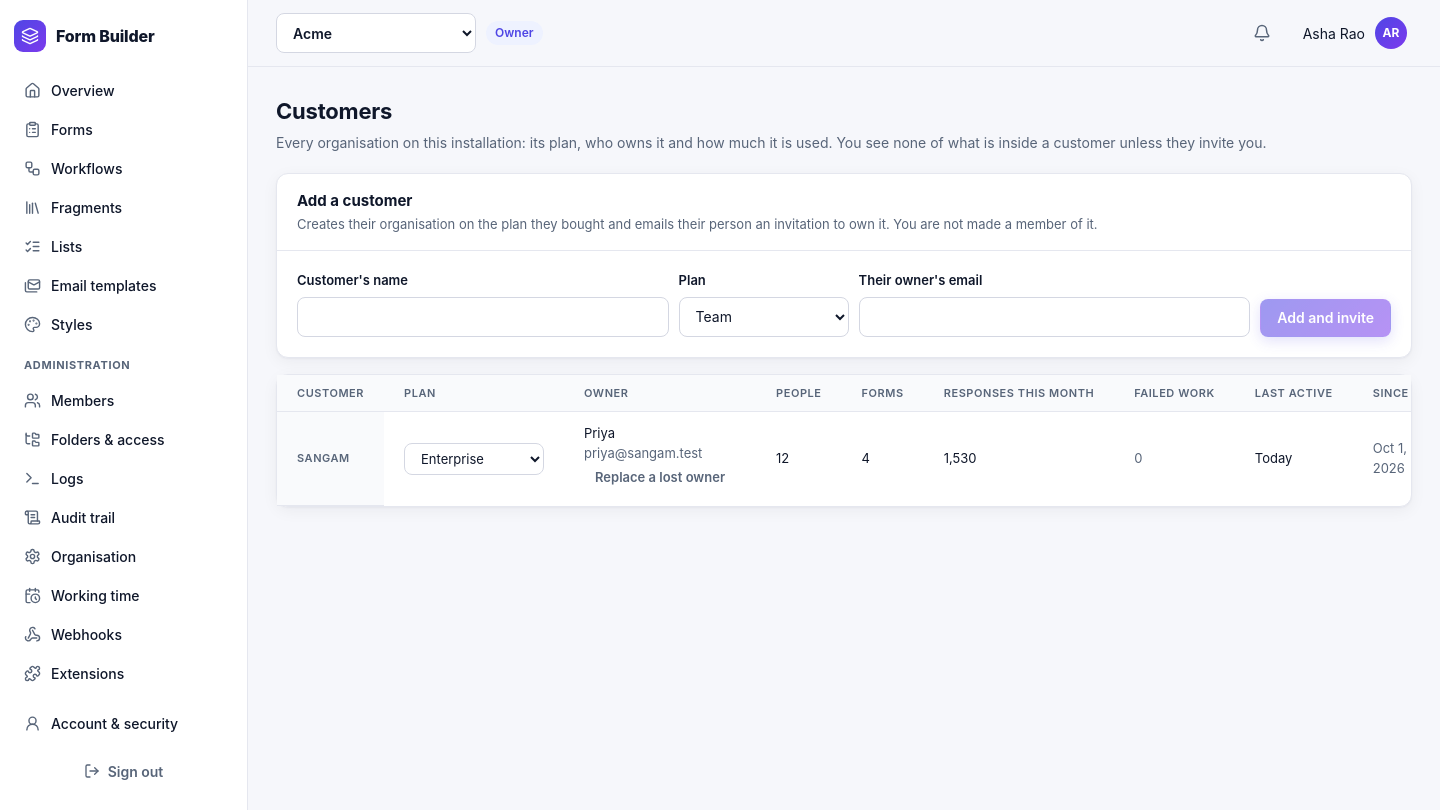
Test: studio › an operator has a Customers page: every customer with plan, owner and use; one is added and a plan changed there
This screenshot has width=1440, height=810.
Check: the row "Sangam" shows "Priya", box top-left (584, 425), bottom-right (615, 441)
Check: the row "Sangam" shows "1,530", box top-left (944, 450), bottom-right (976, 466)
Type "Newco" into the field labelled "Customer's name" at coordinates (483, 316), box top-left (297, 296), bottom-right (669, 336)
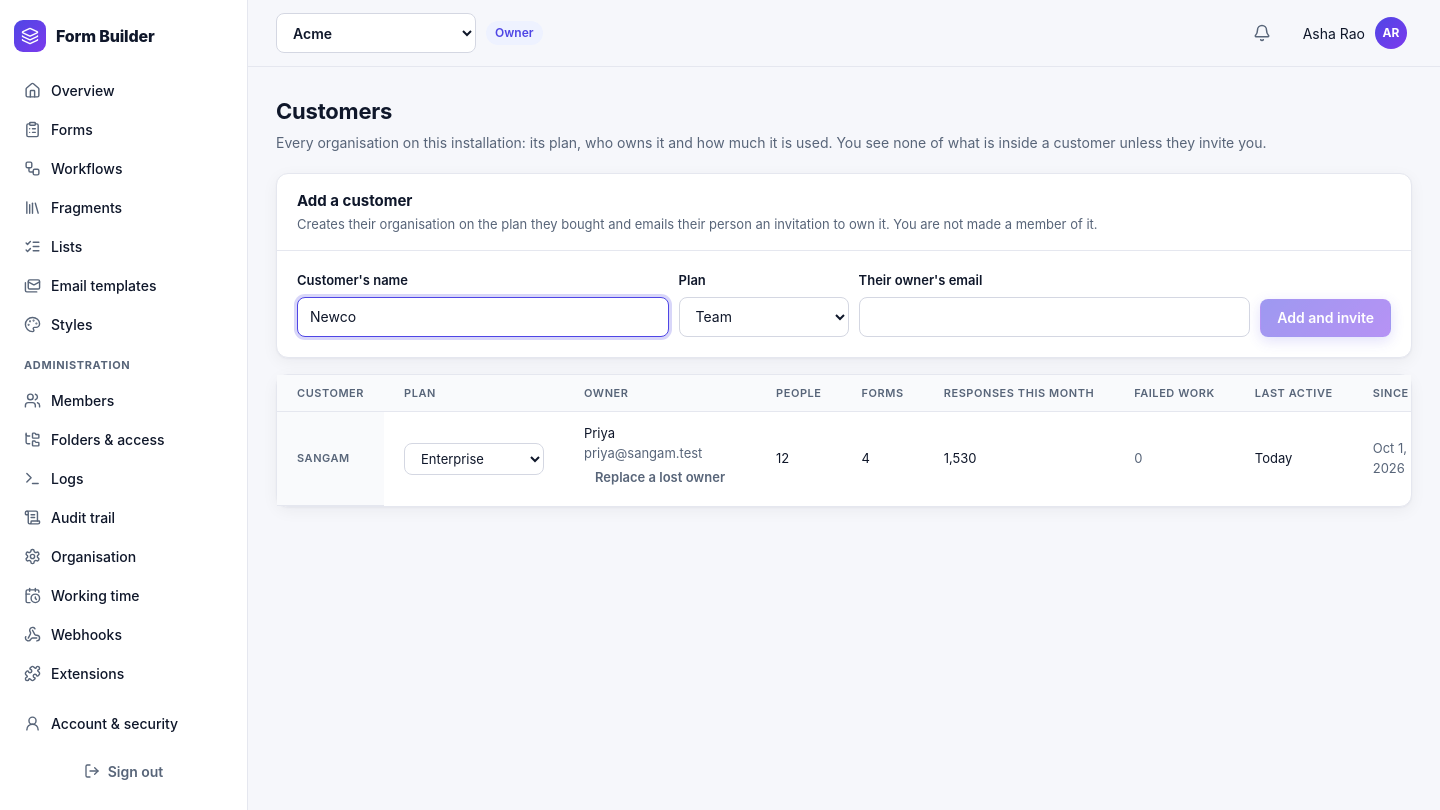
Type "boss@newco.test" into the field labelled "Their owner's email" at coordinates (1054, 316), box top-left (859, 296), bottom-right (1250, 336)
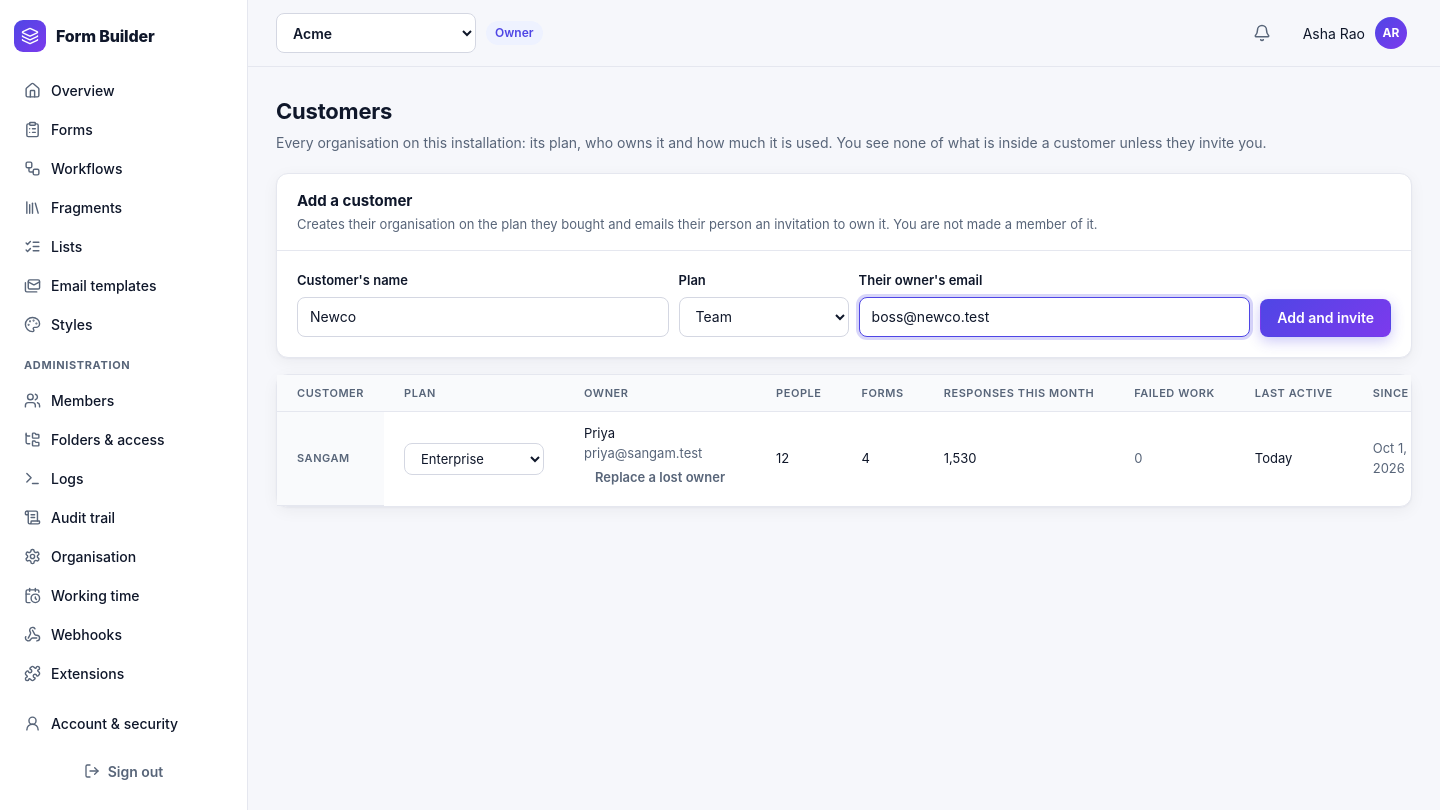
Click the button "Add and invite" at coordinates (1326, 318), box top-left (1260, 298), bottom-right (1391, 336)
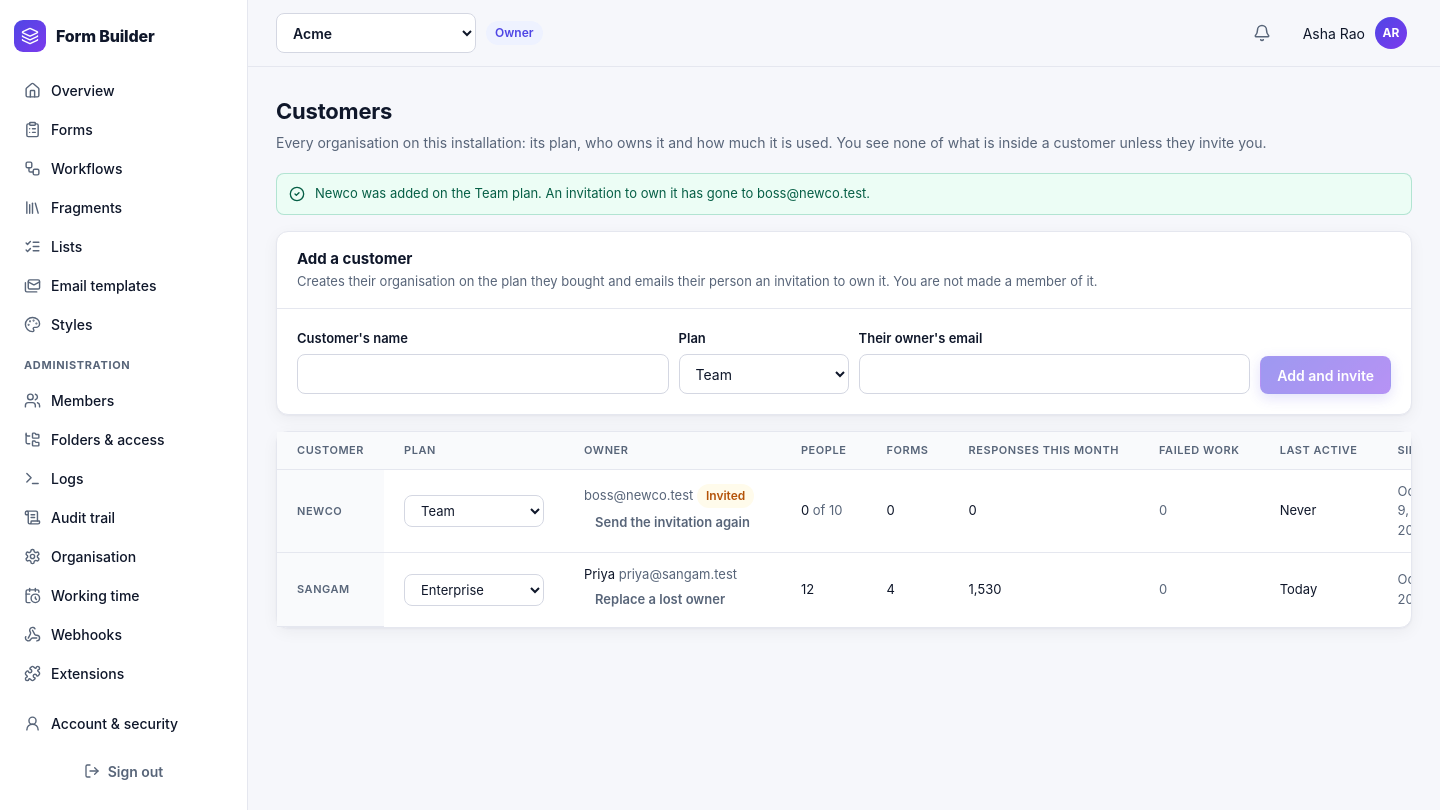
Check: the text "Newco was added on the Team plan. An invitation to own it has gone to boss@newco.test." is shown, box top-left (315, 185), bottom-right (870, 201)
Check: the text "Invited" is shown, box top-left (697, 484), bottom-right (754, 508)
Check: the button "Send the invitation again" is shown, box top-left (584, 508), bottom-right (761, 538)
Select "Business" in the dropdown named "Plan for Sangam" at coordinates (474, 590), box top-left (404, 574), bottom-right (544, 606)
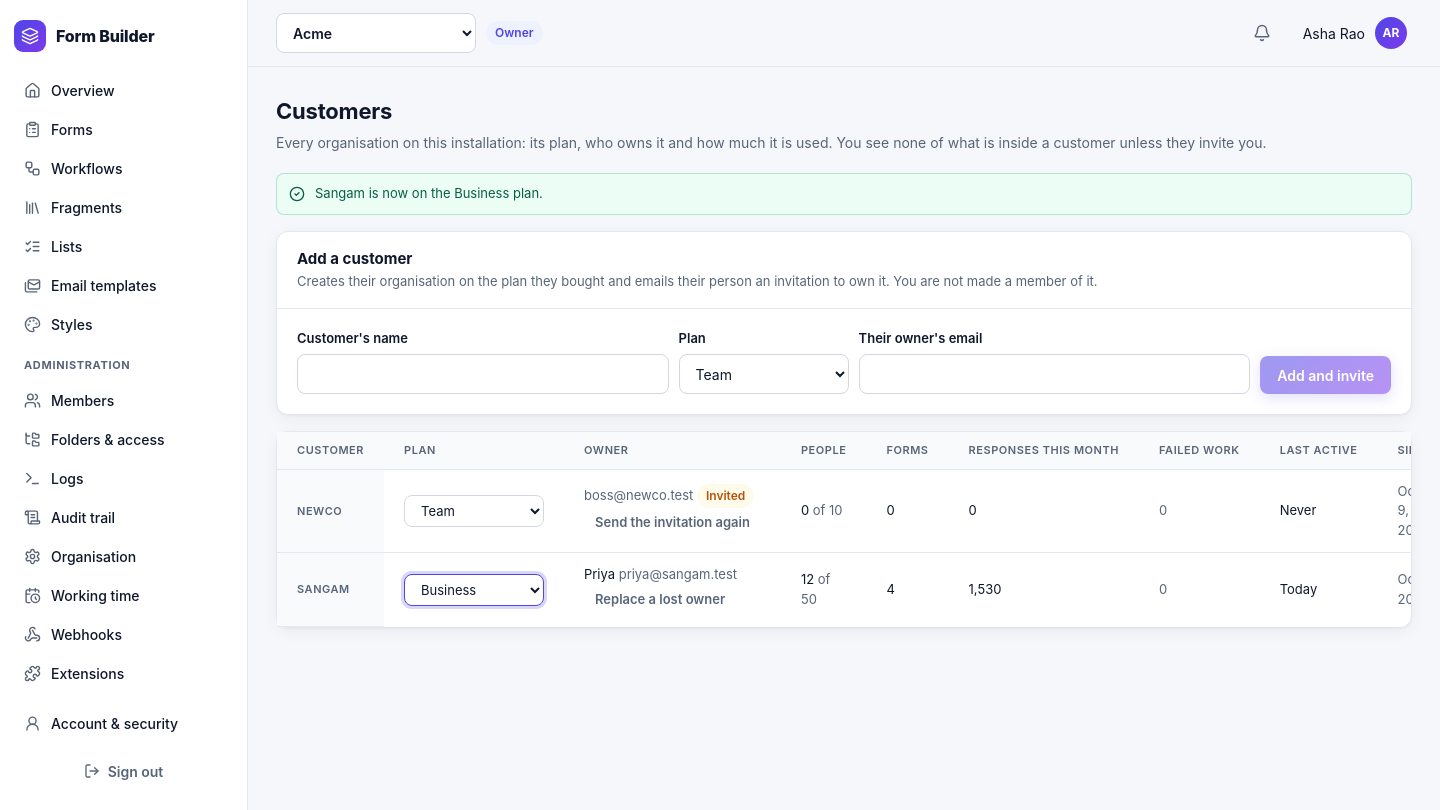
Check: the text "Sangam is now on the Business plan." is shown, box top-left (315, 184), bottom-right (543, 204)
